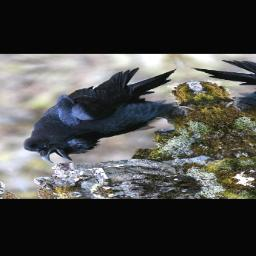Crow: (0, 64, 232, 165)
